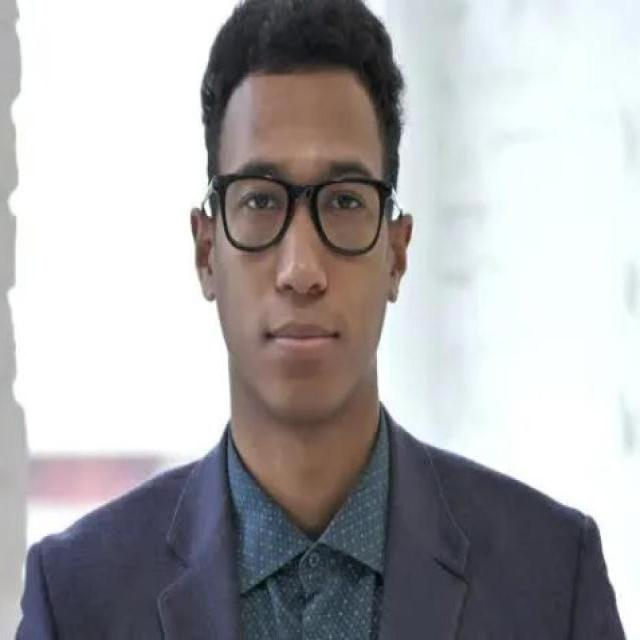Helmet: (9, 360, 640, 640), (147, 0, 456, 268)
